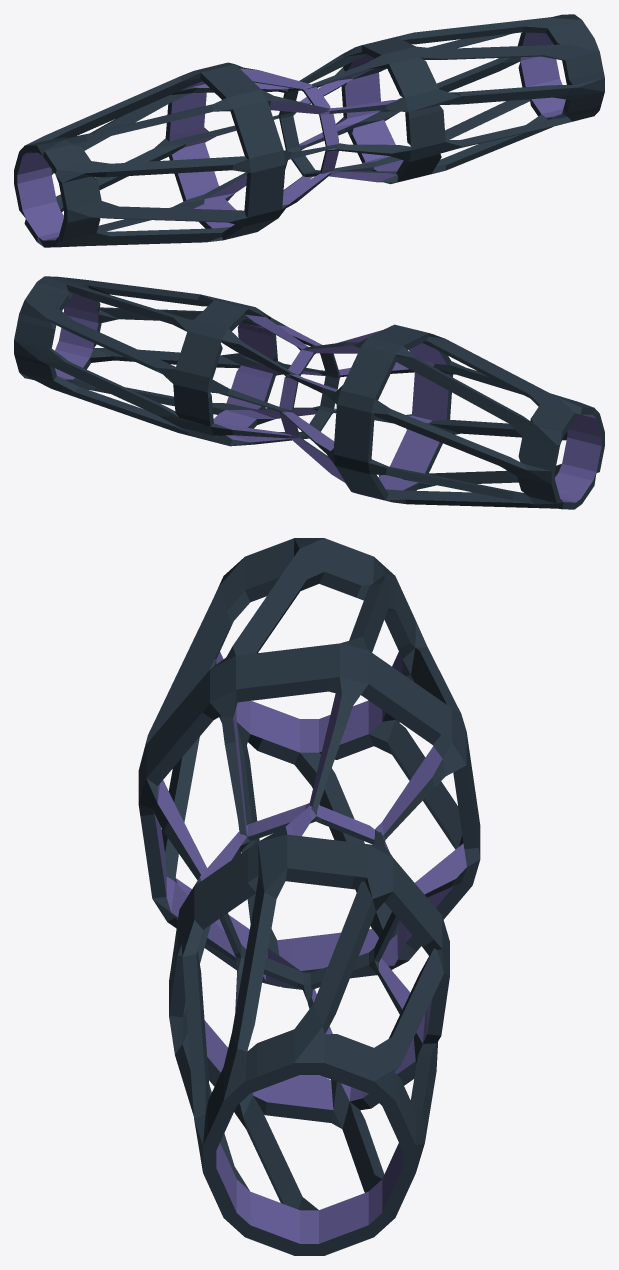
The model's file is GrabUpper.fbx.
3 renders of one model, top to bottom at view 1: azimuth 30°, elevation 25°; view 2: azimuth 150°, elevation 25°; view 3: azimuth 270°, elevation 25°, orthographic. The views are drawn at different scales.
Parts seen in each view (by area): view 1: Cylinder.004; view 2: Cylinder.004; view 3: Cylinder.004.
Part boxes in pixels (box(x1,y1,x2,y2)): Cylinder.004: box(14, 14, 604, 247); Cylinder.004: box(14, 276, 604, 509); Cylinder.004: box(138, 538, 480, 1255).
Size of the model in its own units: 192 by 52.71 by 52.71.
